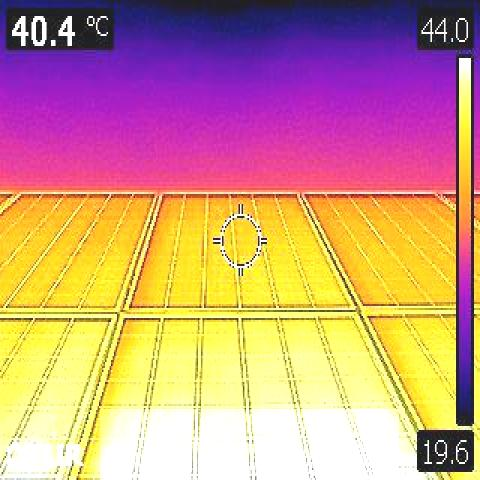fault: (100, 409, 399, 480)
